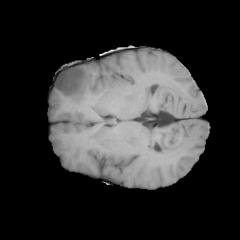glioma: (54, 66, 92, 102)
